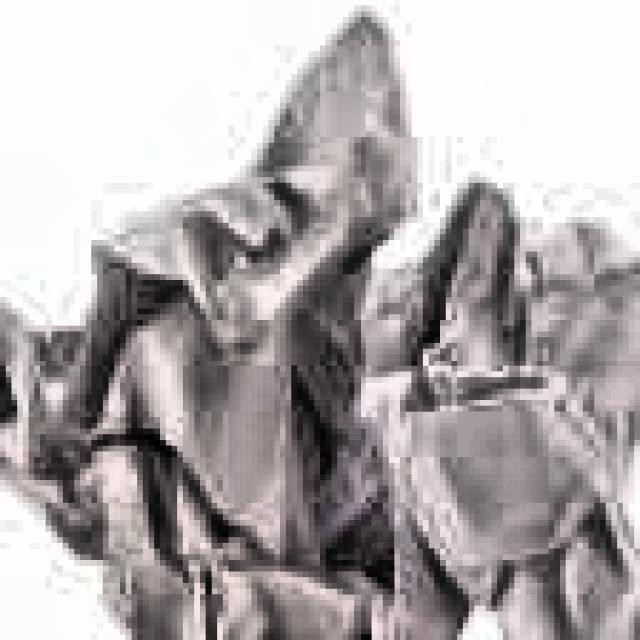paper: (0, 6, 640, 640)
